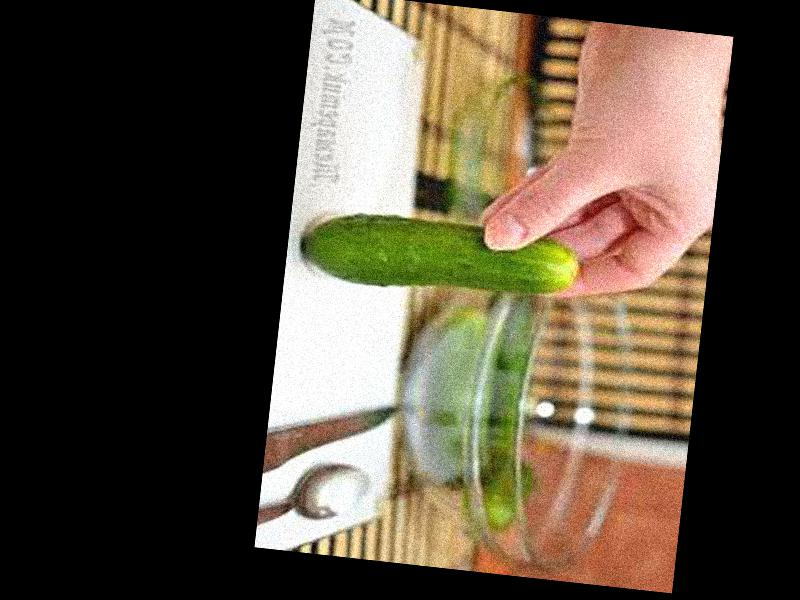Cucumber: (300, 206, 582, 307)
